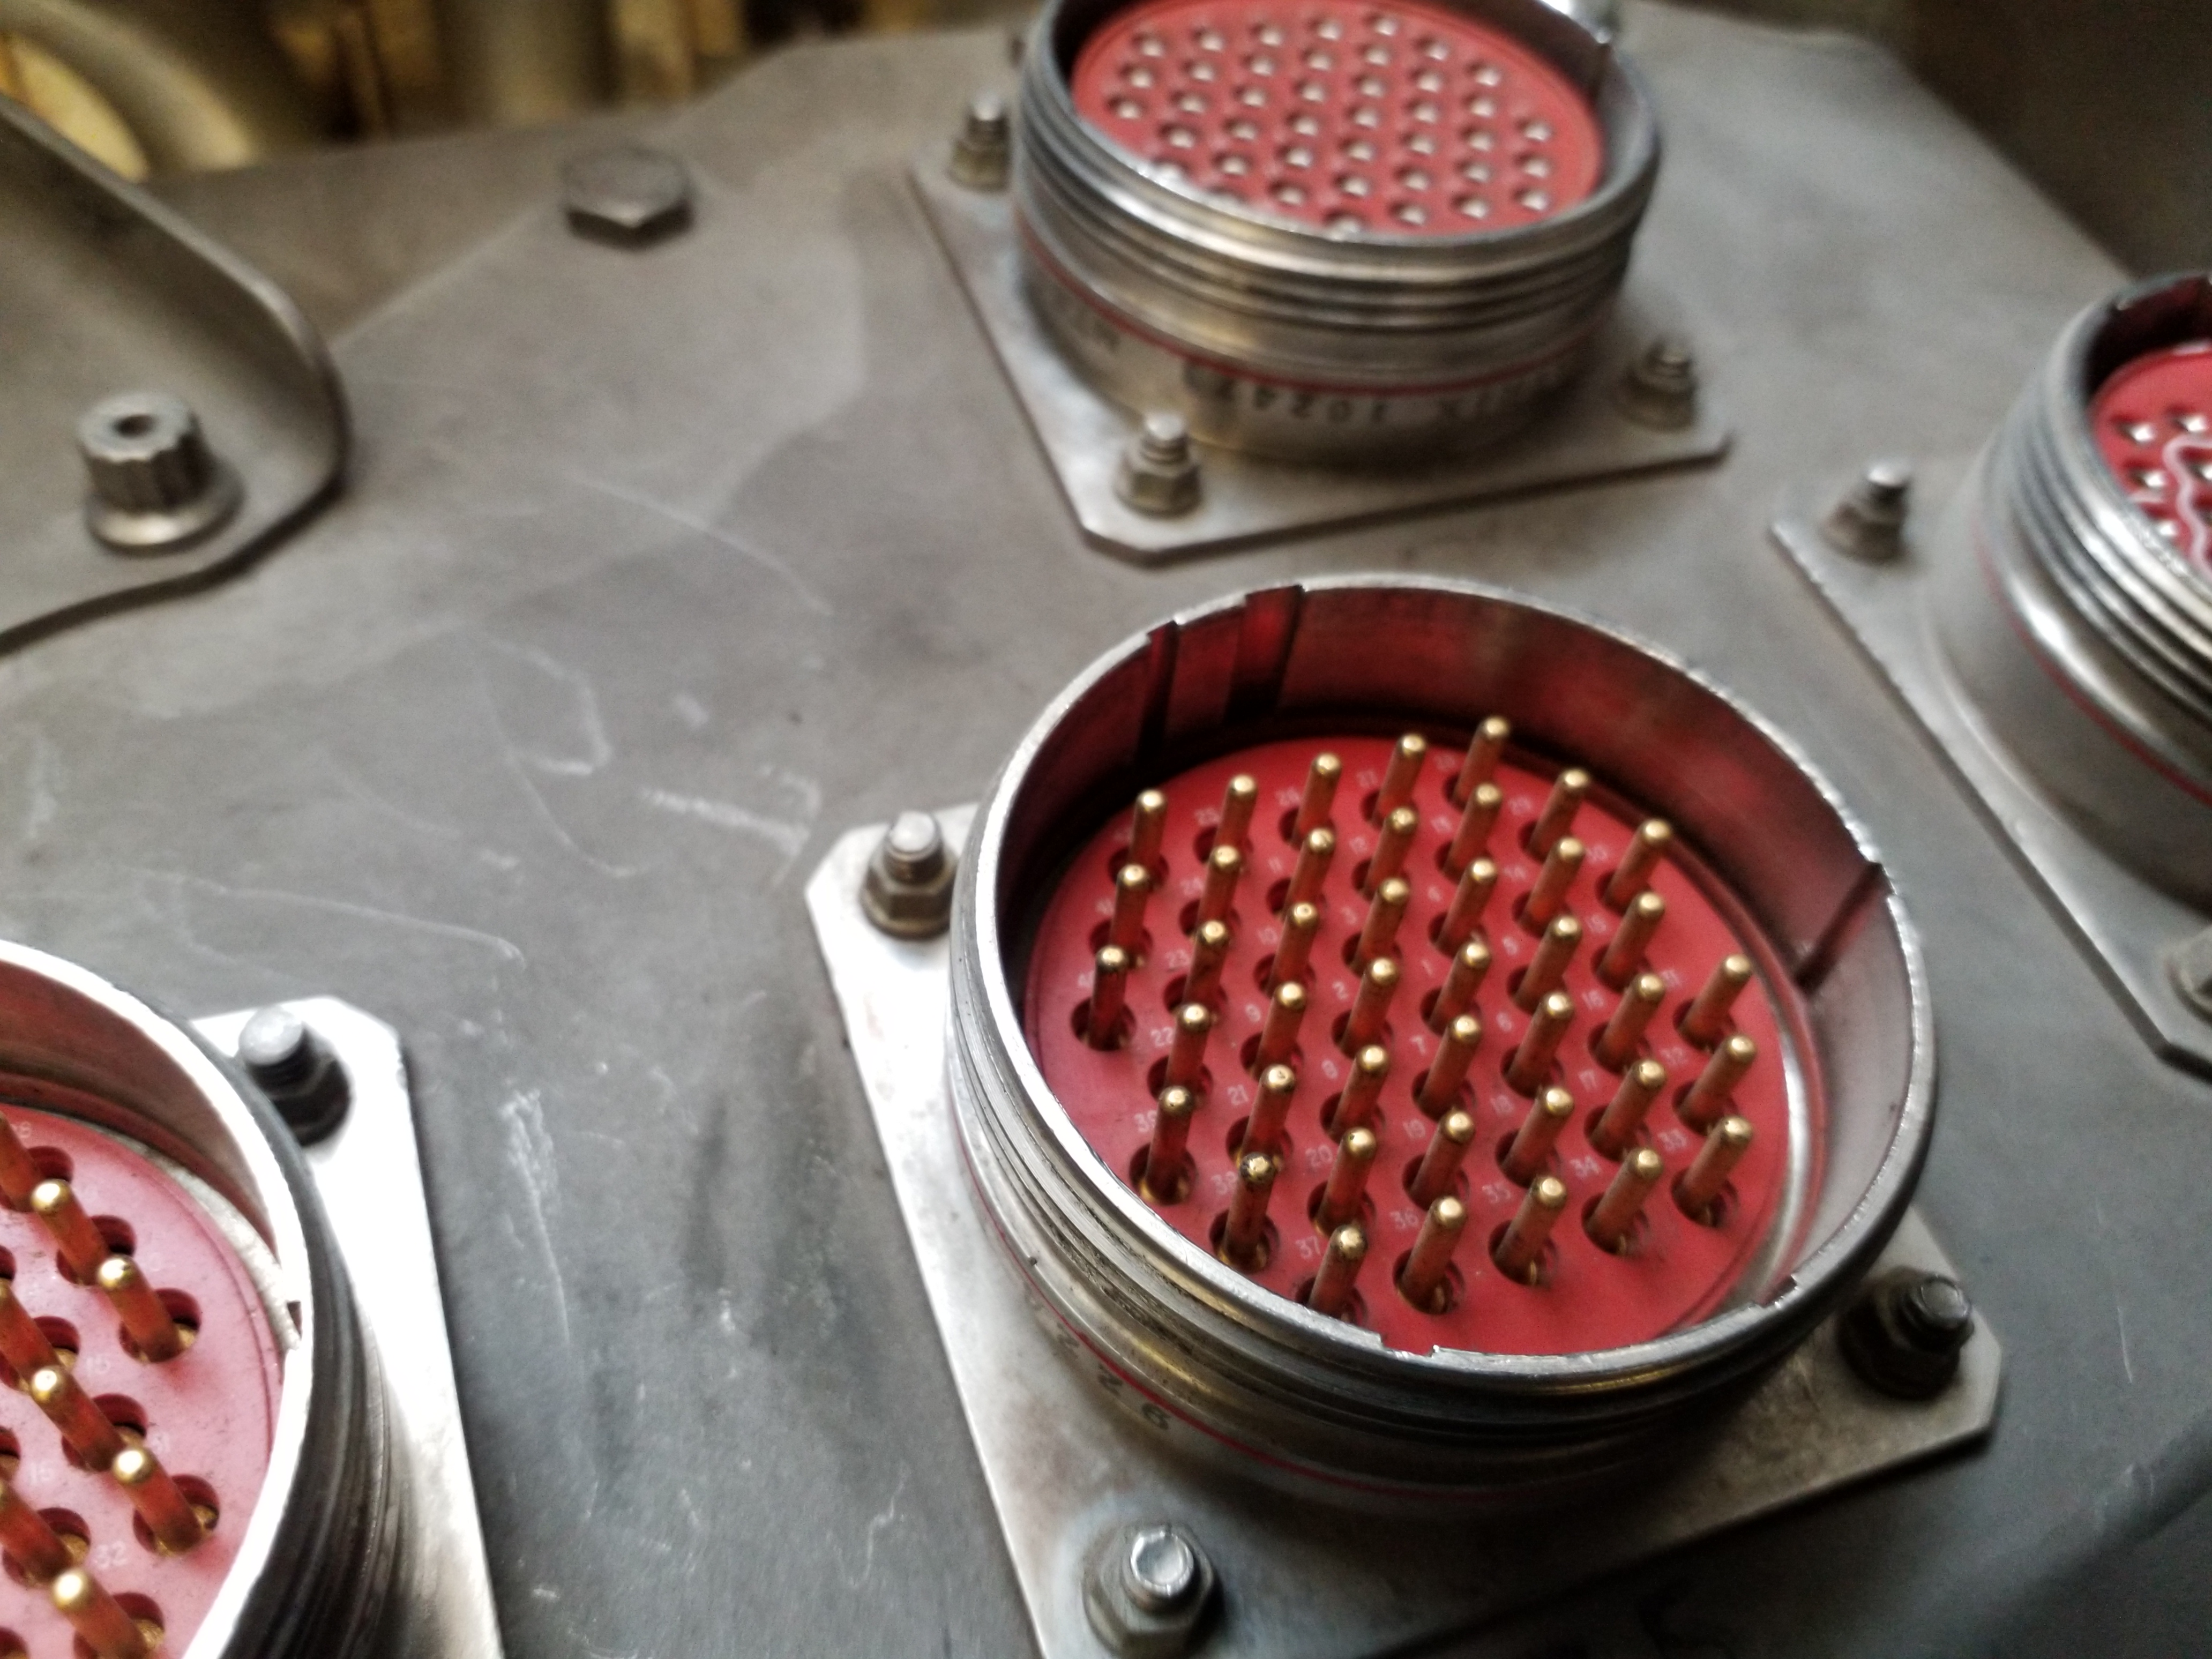inletnumbers: (1003, 5, 1709, 277)
inletround: (2034, 251, 2202, 605)
outlet: (948, 556, 1963, 1382), (0, 924, 397, 1654)
